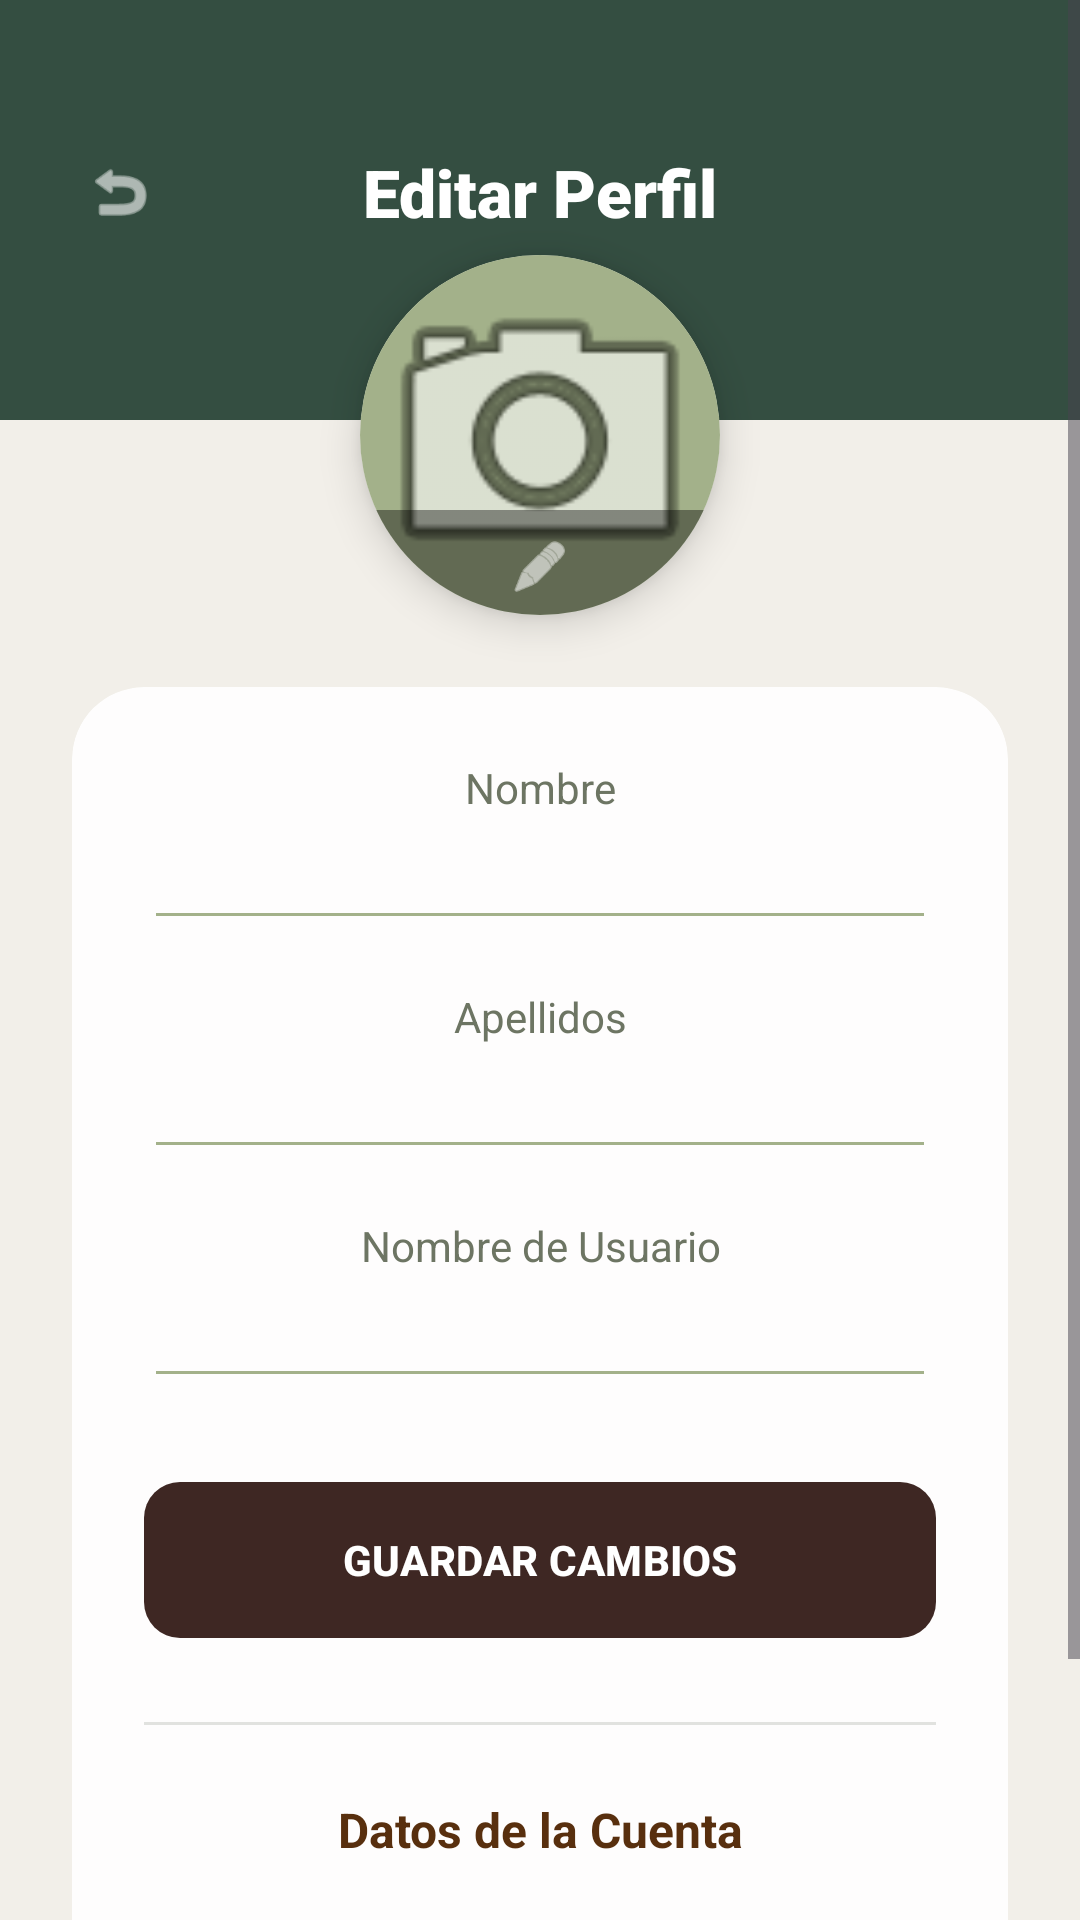

Screen size 1080 x 1920. Icon name, then its center in pixels as point (x, y):
revert: point (121, 192)
